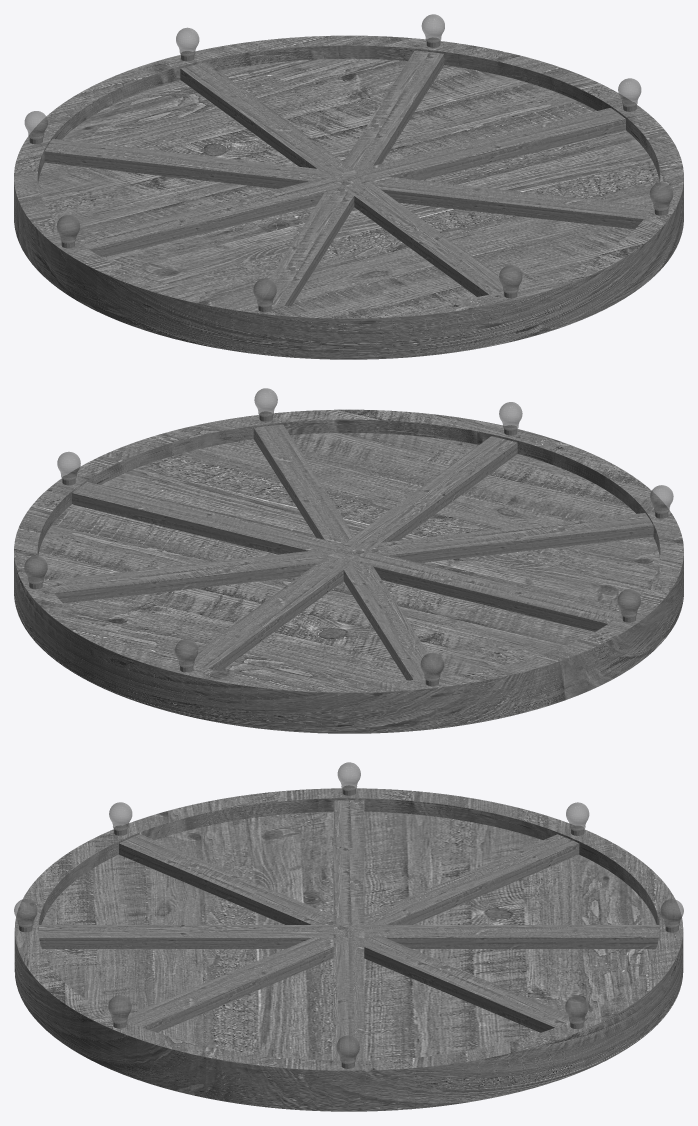
The model's file is wheel.fbx.
3 renders of one model, top to bottom at view 1: azimuth 30°, elevation 25°; view 2: azimuth 150°, elevation 25°; view 3: azimuth 270°, elevation 25°, orthographic.
Parts seen in each view (by area): view 1: Cylinder, Sphere, Cylinder.001; view 2: Cylinder, Sphere, Cylinder.001; view 3: Cylinder, Sphere, Cylinder.001.
Boxes of the visible parts, x1,y1,x2,y2 form: Cylinder: (14, 35, 683, 359); Sphere: (24, 14, 673, 307); Cylinder.001: (29, 37, 668, 312); Cylinder: (14, 409, 683, 733); Sphere: (24, 388, 673, 681); Cylinder.001: (29, 411, 668, 686); Cylinder: (14, 788, 683, 1111); Sphere: (14, 762, 683, 1063); Cylinder.001: (19, 785, 678, 1068).
Size of the model in its own units: 200 by 23.26 by 200.
Materials: 3 (3 with a texture image).
